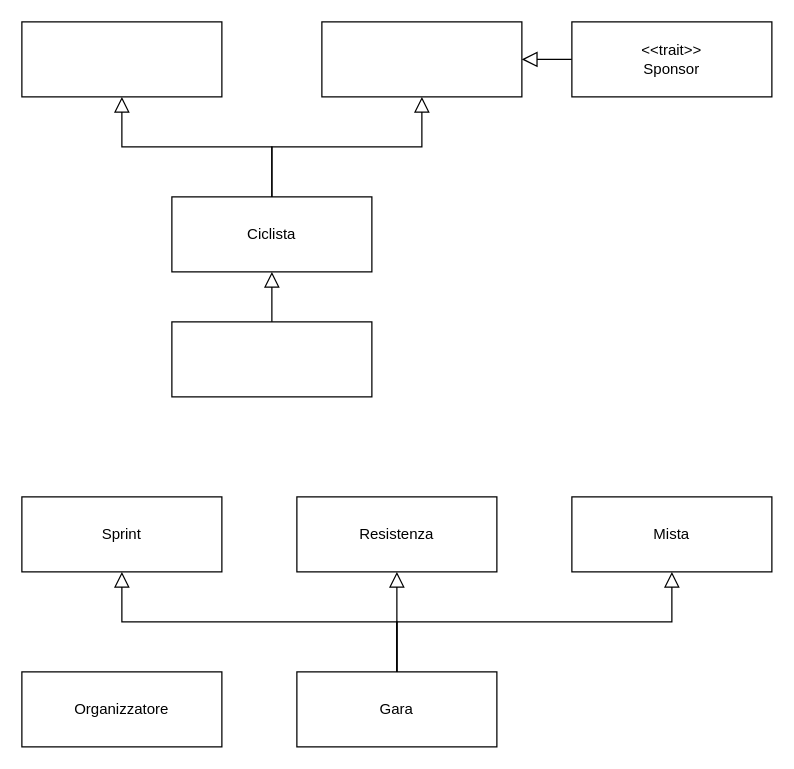
Some shapes in this 794 by 769 pixel diagram are drawn without their labels. Each missing label, with the box of its shape:
<<abstract class>> Persona: (171, 321, 372, 397)
Amatore: (21, 21, 222, 97)
Professionista: (321, 21, 522, 97)
